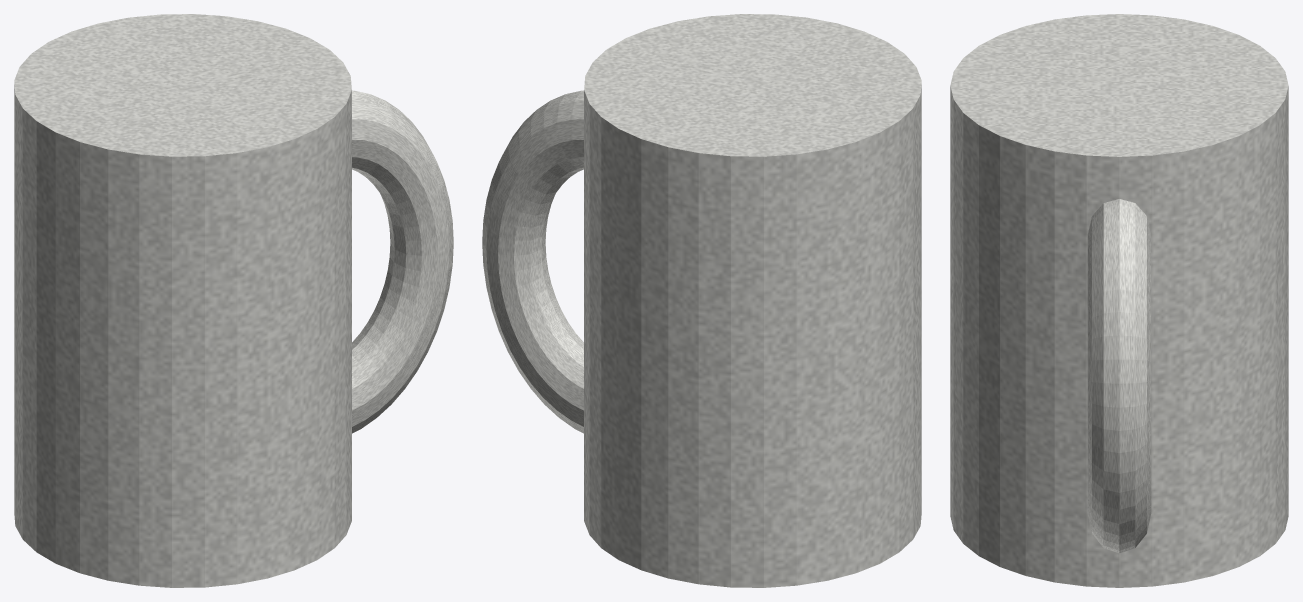
The model's file is coffee_mug.glb.
The picture shows the model from 3 angles, left to right: view 1: azimuth 30°, elevation 25°; view 2: azimuth 150°, elevation 25°; view 3: azimuth 270°, elevation 25°; orthographic projection.
Visible parts, largest first — view 1: coffee_mug; view 2: coffee_mug; view 3: coffee_mug.
Boxes of the visible parts, x1=… form: coffee_mug: x1=14, y1=14, x2=453, y2=587; coffee_mug: x1=482, y1=14, x2=921, y2=587; coffee_mug: x1=950, y1=14, x2=1288, y2=587.
Size of the model in its own units: 0.0902 by 0.09 by 0.064.
1 material, 1 textured.
